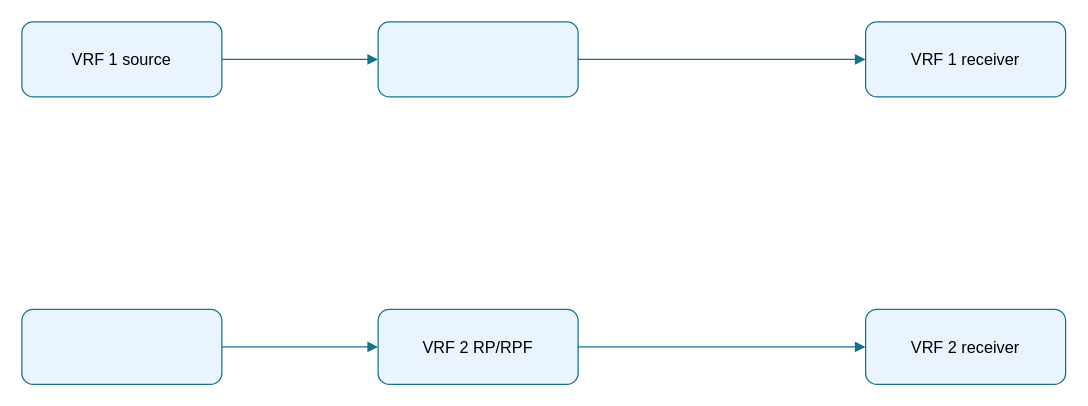
Image size: 1088x406. Some labels were removed from this diagram. Each missing label, with the box of its shape:
VRF 1 RP/RPF: (377, 21, 578, 97)
VRF 2 source: (21, 308, 222, 384)
